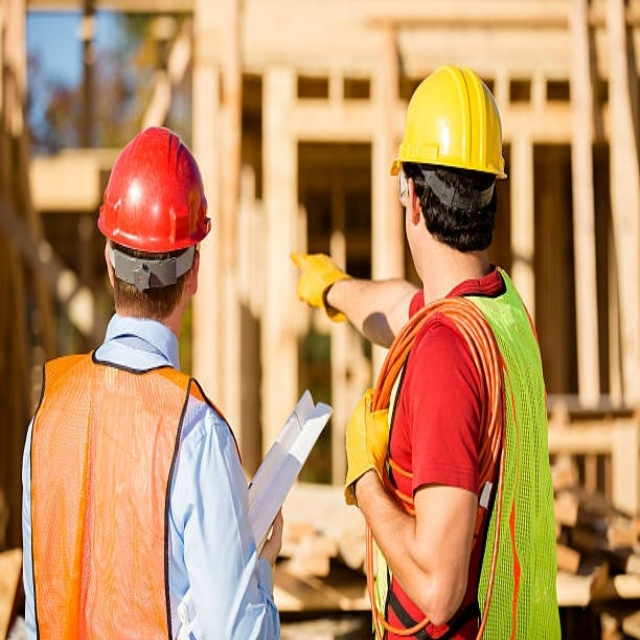Guantes: (344, 390, 388, 504), (290, 251, 351, 322)
